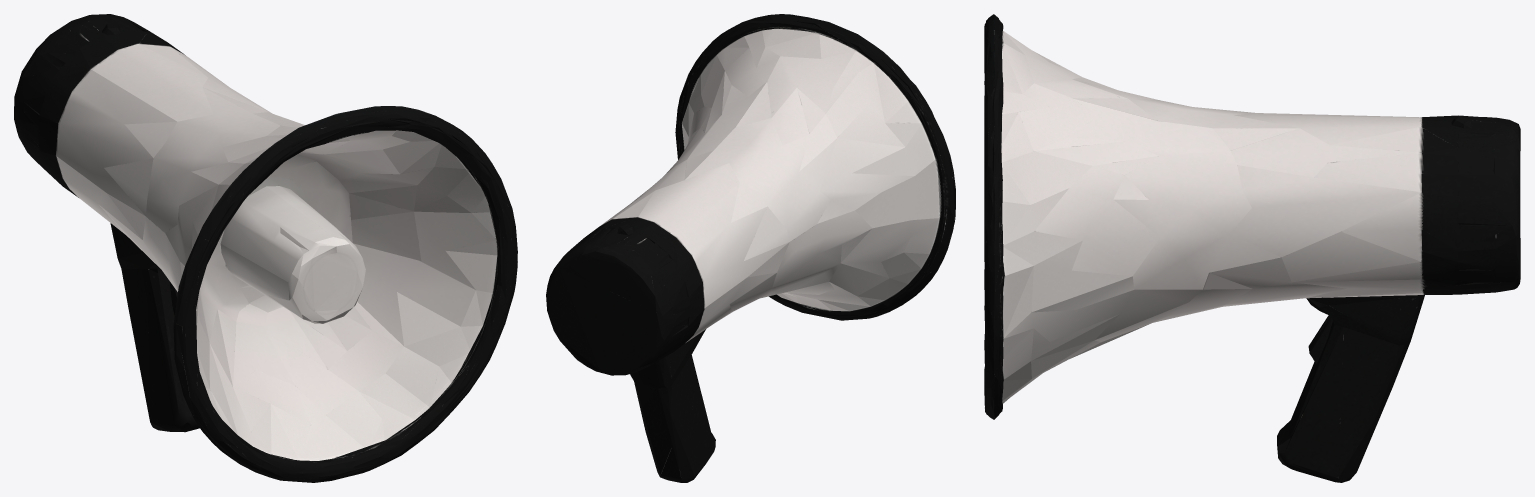
The model's file is megaphone.glb.
3 renders of one model, left to right at view 1: azimuth 30°, elevation 25°; view 2: azimuth 150°, elevation 25°; view 3: azimuth 270°, elevation 25°, orthographic. The views are drawn at different scales.
Parts seen in each view (by area): view 1: output_unwrapped; view 2: output_unwrapped; view 3: output_unwrapped.
Boxes of the visible parts, x1,y1,x2,y2 form: output_unwrapped: (14,14,517,482); output_unwrapped: (546,14,955,482); output_unwrapped: (984,14,1520,482).
Size of the model in its own units: 1.41 by 1.72 by 1.89.
1 material, 1 textured.
